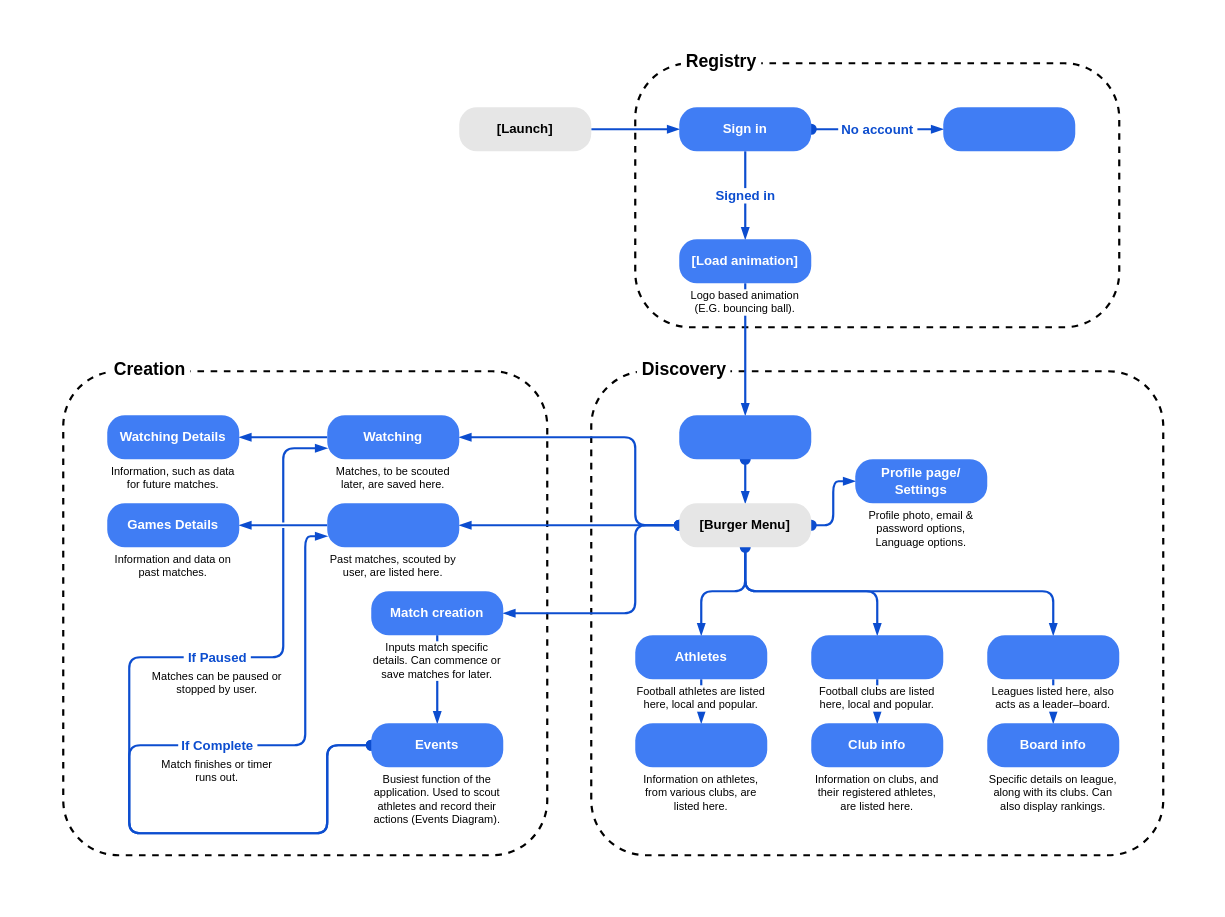
Some shapes in this 1225 by 917 pixel diagram are drawn without their labels. Here are the shapes that lost their labels. From the top down, the box of each, then its label:
(943, 107, 1075, 151): Sign up
(679, 415, 811, 459): Home page
(327, 503, 459, 547): Games
(811, 635, 943, 679): Clubs
(987, 635, 1119, 679): Boards
(635, 723, 767, 767): Athlete Info
